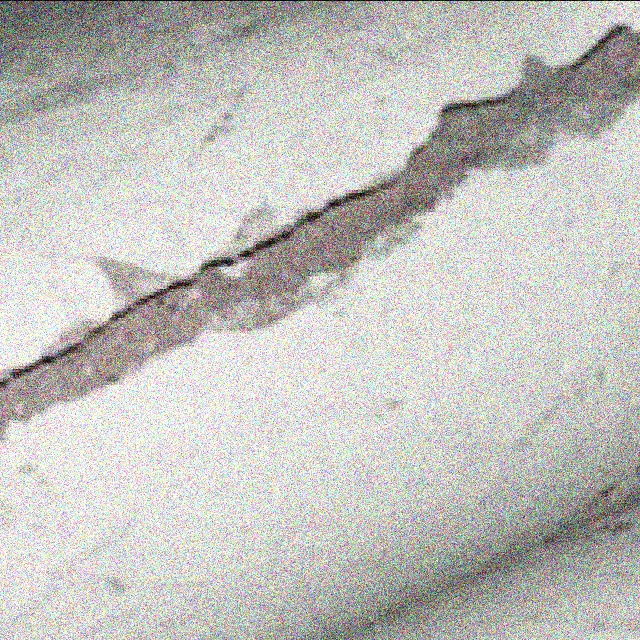SurfaceCrack: (0, 22, 626, 424)
